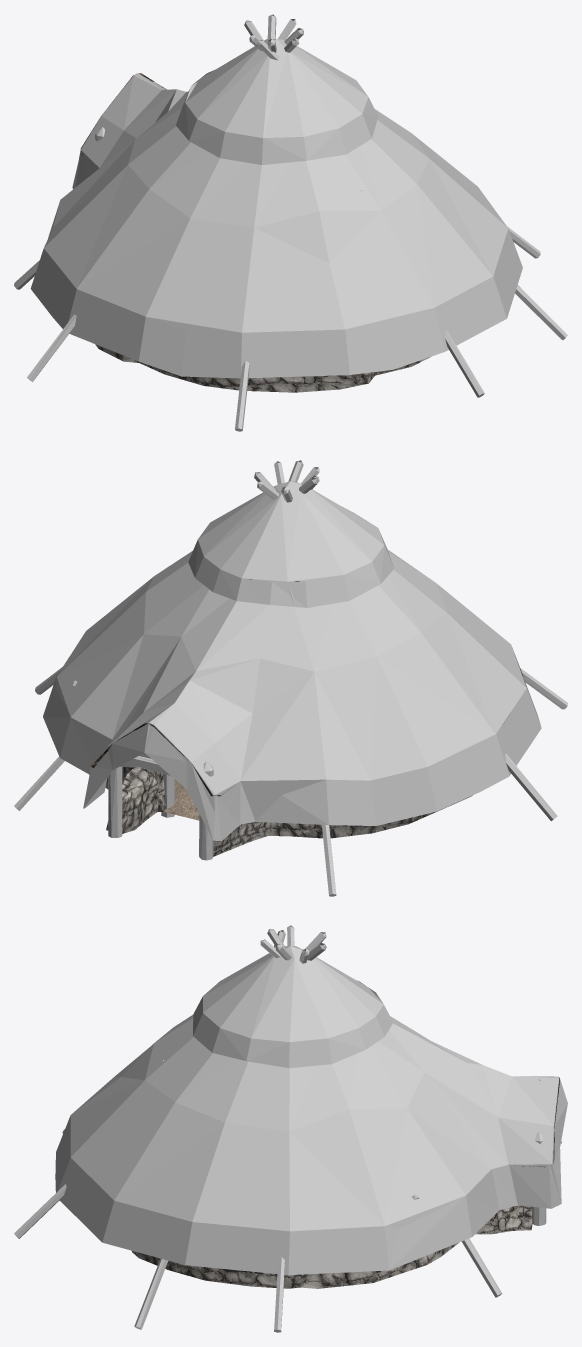
File: RoundHut_1_LOD1.fbx
The picture shows the model from 3 angles, top to bottom: view 1: azimuth 30°, elevation 25°; view 2: azimuth 150°, elevation 25°; view 3: azimuth 270°, elevation 25°; orthographic projection. The views are drawn at different scales.
Parts seen in each view (by area): view 1: Alpha, Wood, Stone; view 2: Alpha, Wood, Stone, Ground; view 3: Alpha, Stone, Wood.
Boxes of the visible parts, x1,y1,x2,y2 form: Alpha: (30, 38, 522, 378); Wood: (14, 14, 567, 431); Stone: (95, 344, 431, 392); Alpha: (43, 481, 541, 840); Wood: (14, 460, 567, 896); Stone: (105, 767, 472, 856); Ground: (164, 782, 199, 820); Alpha: (55, 946, 567, 1275); Stone: (132, 1205, 532, 1288); Wood: (14, 925, 546, 1332).
Bounding box in the file's own units: 2133 × 2061 × 1213.
